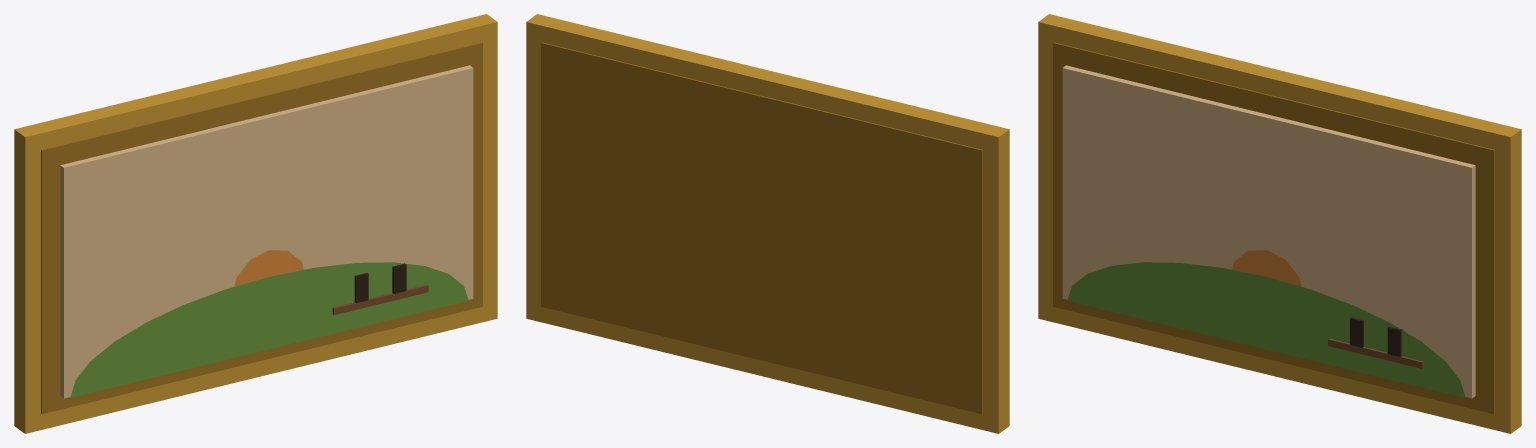
Rendered from memory_frame.glb.
3 views of the same model, side by side, from view 1: azimuth 30°, elevation 25°; view 2: azimuth 150°, elevation 25°; view 3: azimuth 330°, elevation 25° (orthographic).
Parts seen in each view (by area): view 1: furniture-memory_frame; view 2: furniture-memory_frame; view 3: furniture-memory_frame.
Part boxes in pixels (x1=…): furniture-memory_frame: x1=14, y1=14, x2=497, y2=433; furniture-memory_frame: x1=526, y1=14, x2=1009, y2=433; furniture-memory_frame: x1=1038, y1=14, x2=1521, y2=433.
Size of the model in its own units: 1.5 by 0.9001 by 0.1179.
